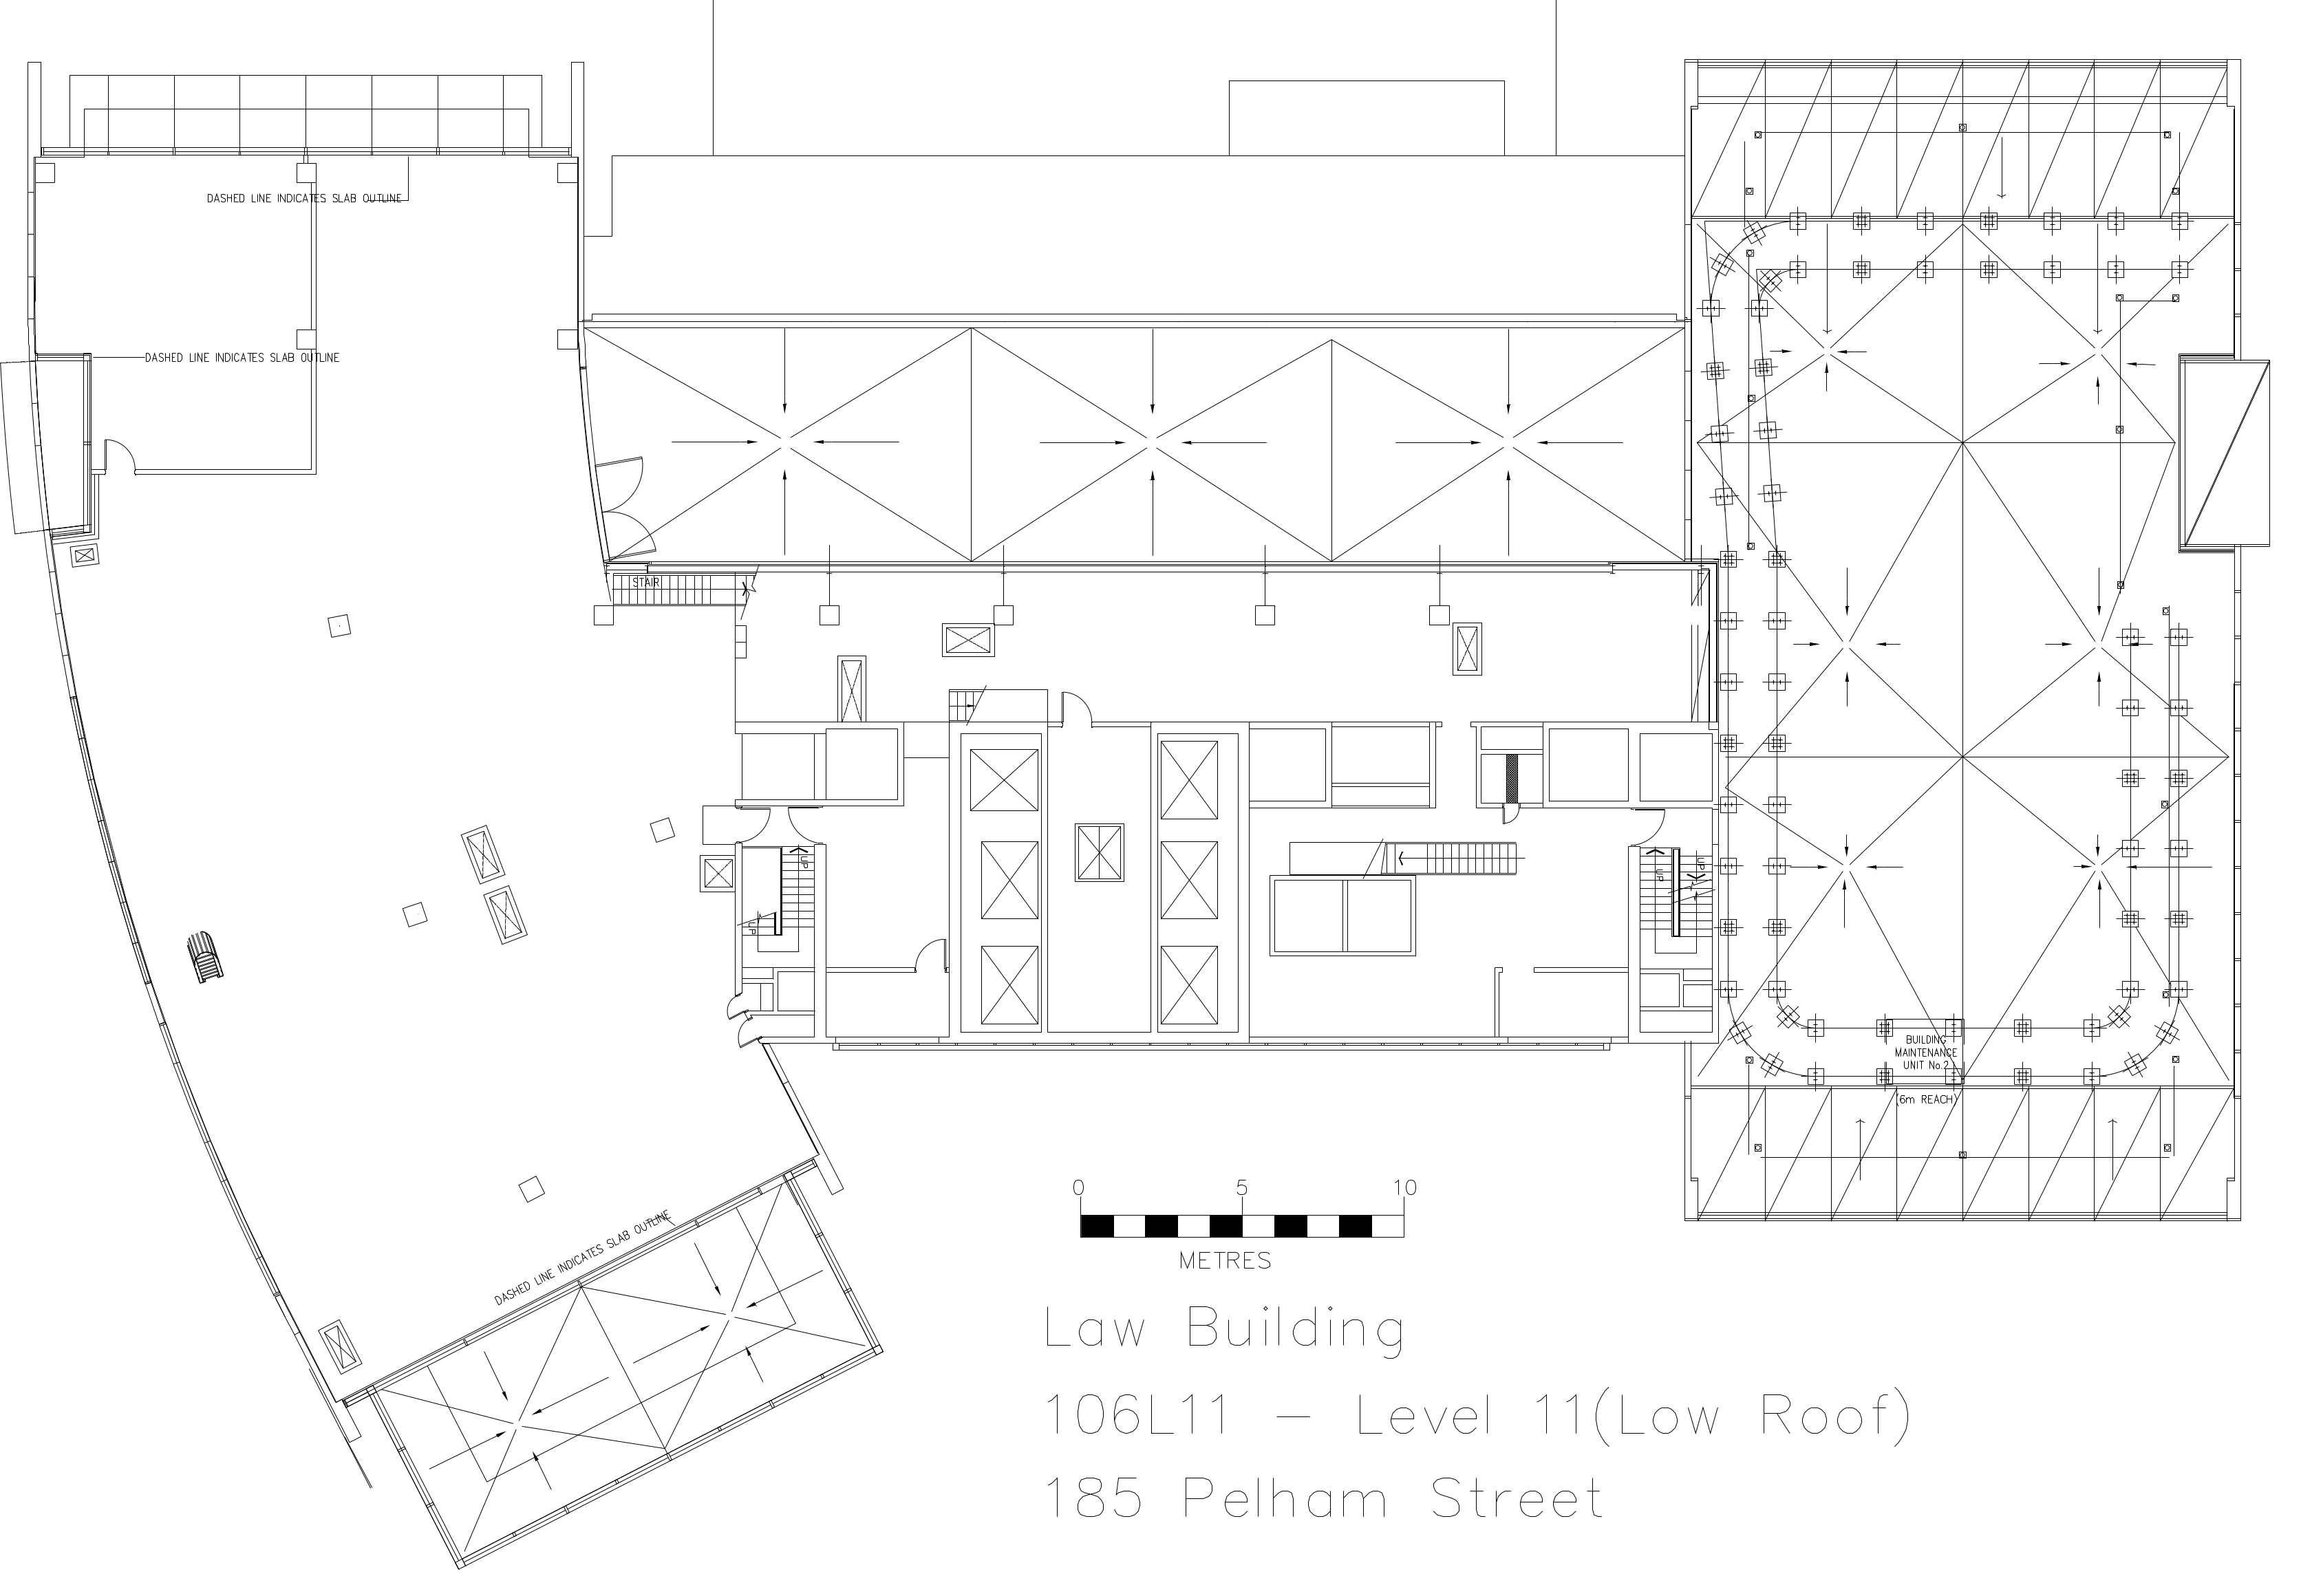door: (596, 448, 671, 558), (1635, 808, 1670, 846), (101, 435, 136, 472), (741, 806, 775, 843), (783, 808, 817, 844), (914, 932, 948, 968), (1060, 685, 1093, 722), (733, 1019, 759, 1052), (1498, 808, 1519, 832), (724, 995, 743, 1021)
